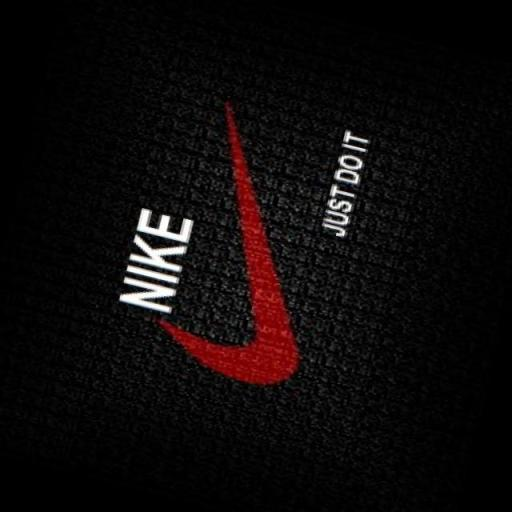Nike: (144, 92, 362, 402)
